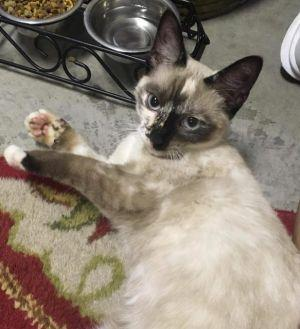siamese: (126, 4, 274, 165)
